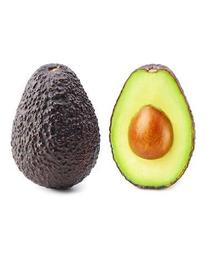avocado: (11, 63, 101, 193), (108, 62, 196, 191)
